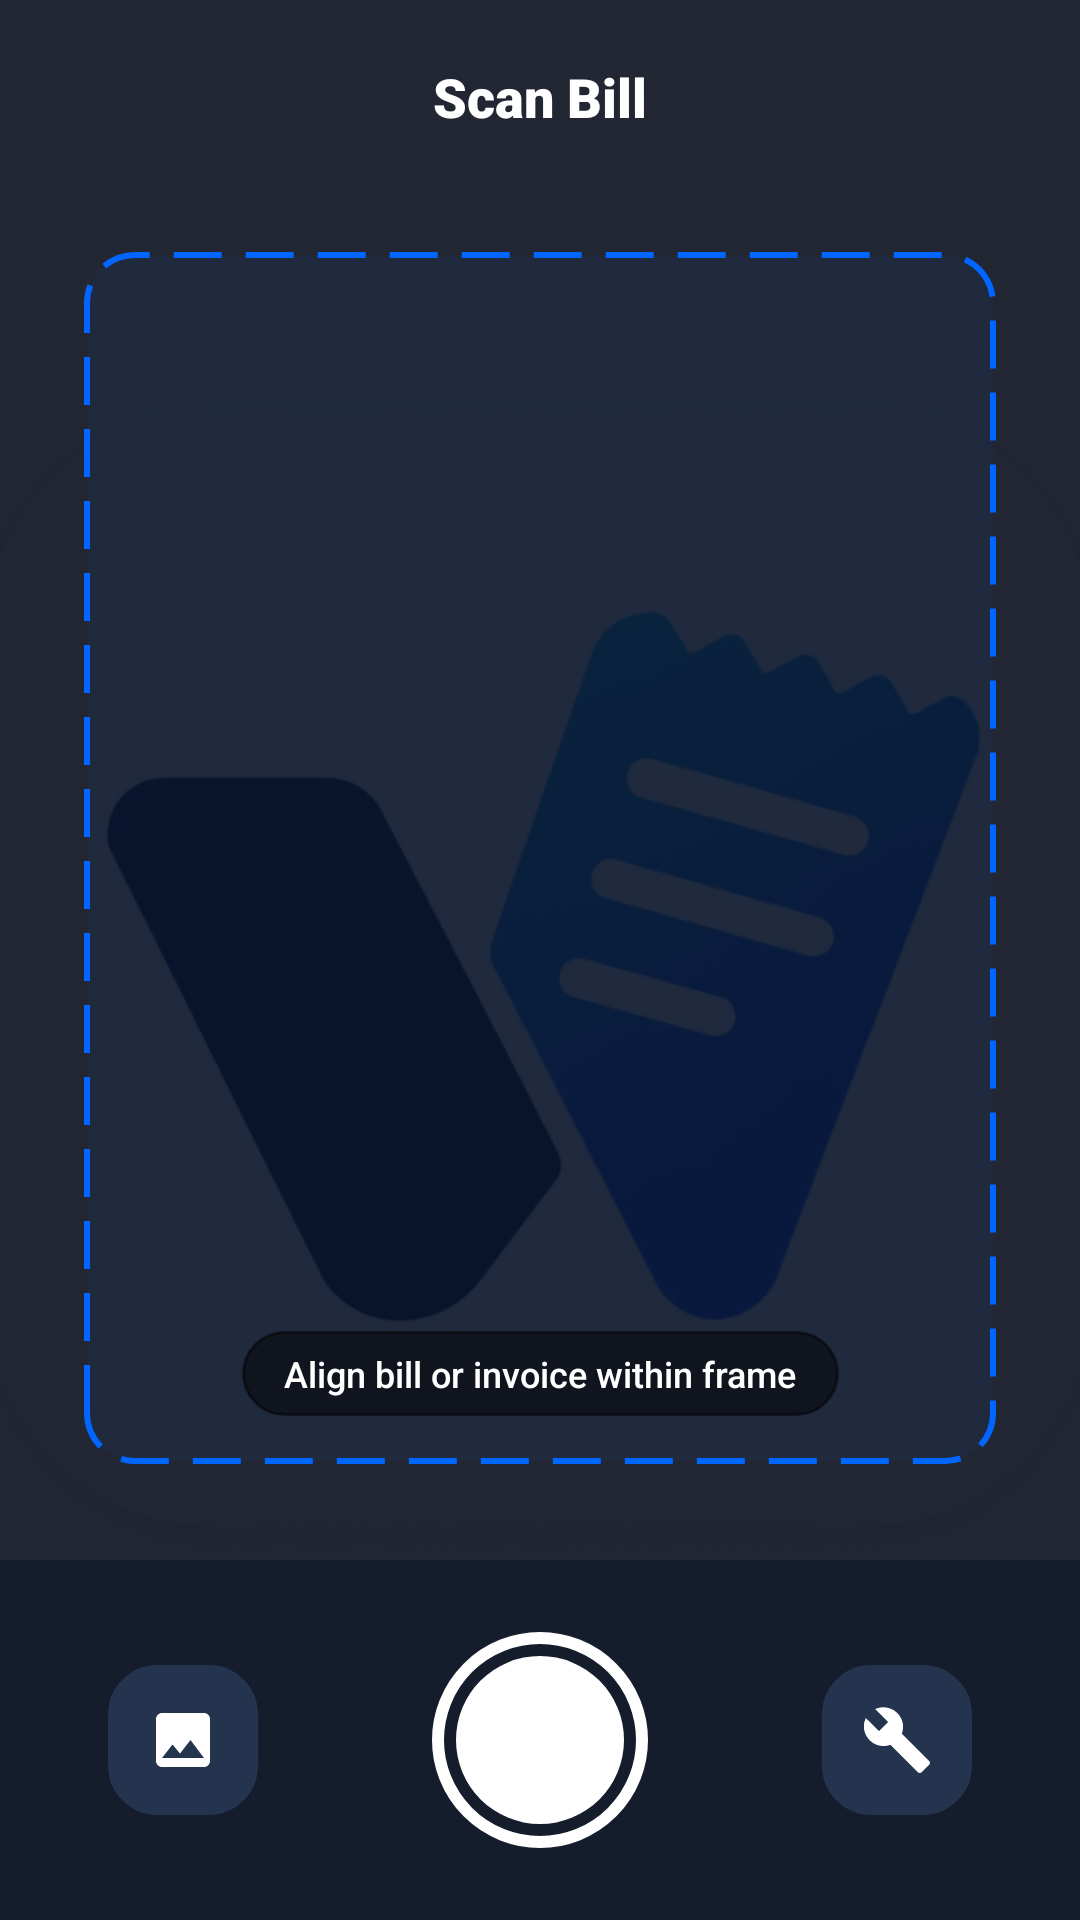

Screen size 1080×1920. Icon name, then its box in pixels as (x1, y1, x2, y2):
Select from Gallery: (108, 1665, 258, 1815)
